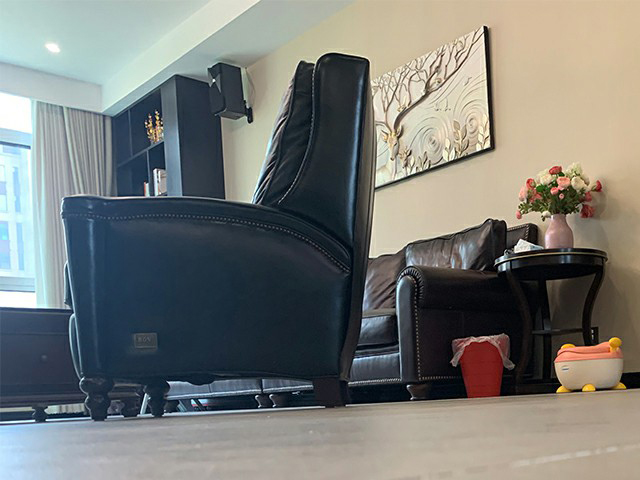sofa: (59, 47, 374, 423), (346, 216, 541, 403)
table: (1, 305, 79, 423)
trashcan: (451, 333, 510, 399)
